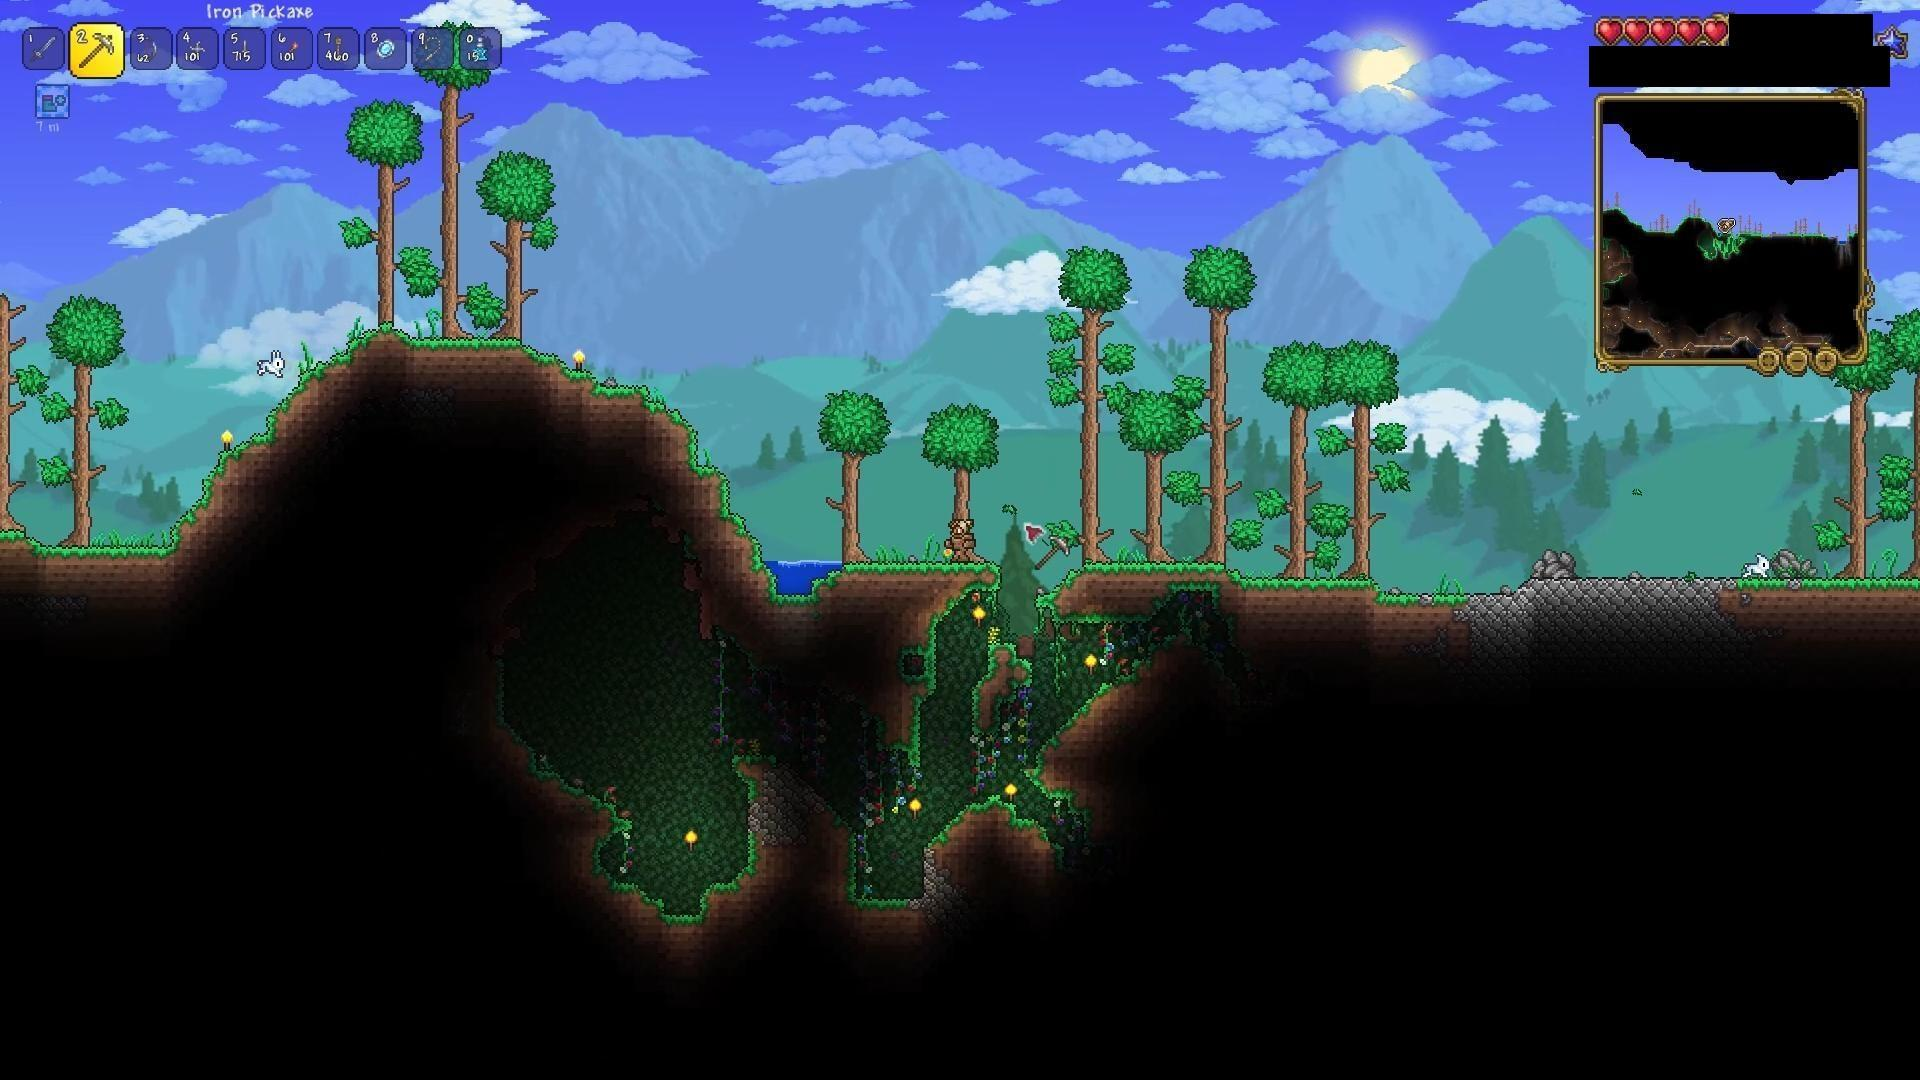dirt: (179, 327, 382, 526), (535, 353, 695, 443), (509, 727, 636, 820), (1, 524, 199, 576), (1029, 549, 1229, 600), (1036, 669, 1127, 765), (884, 579, 993, 657), (381, 323, 546, 367), (688, 458, 757, 555), (1741, 563, 1920, 600), (968, 645, 1034, 741), (1233, 562, 1382, 601), (841, 832, 914, 911), (837, 545, 990, 579), (902, 650, 943, 778), (940, 795, 1039, 837), (753, 564, 843, 611), (1118, 618, 1192, 673), (592, 811, 637, 897), (717, 835, 766, 901), (1022, 760, 1081, 810), (641, 887, 717, 926), (1366, 589, 1462, 620)
heart: (1702, 17, 1733, 51), (1593, 16, 1626, 46), (1676, 15, 1704, 50), (1650, 16, 1676, 49), (1625, 15, 1651, 44)
liquid: (760, 553, 847, 585)
stone: (1462, 570, 1724, 616), (913, 841, 936, 902), (744, 802, 765, 832)
tree: (44, 291, 135, 543), (1051, 222, 1109, 567), (1179, 236, 1241, 559), (1829, 338, 1896, 585), (1338, 330, 1404, 582), (1261, 324, 1327, 572), (342, 94, 411, 314), (1116, 381, 1192, 568), (481, 132, 538, 330), (920, 396, 986, 562), (812, 390, 876, 560)
